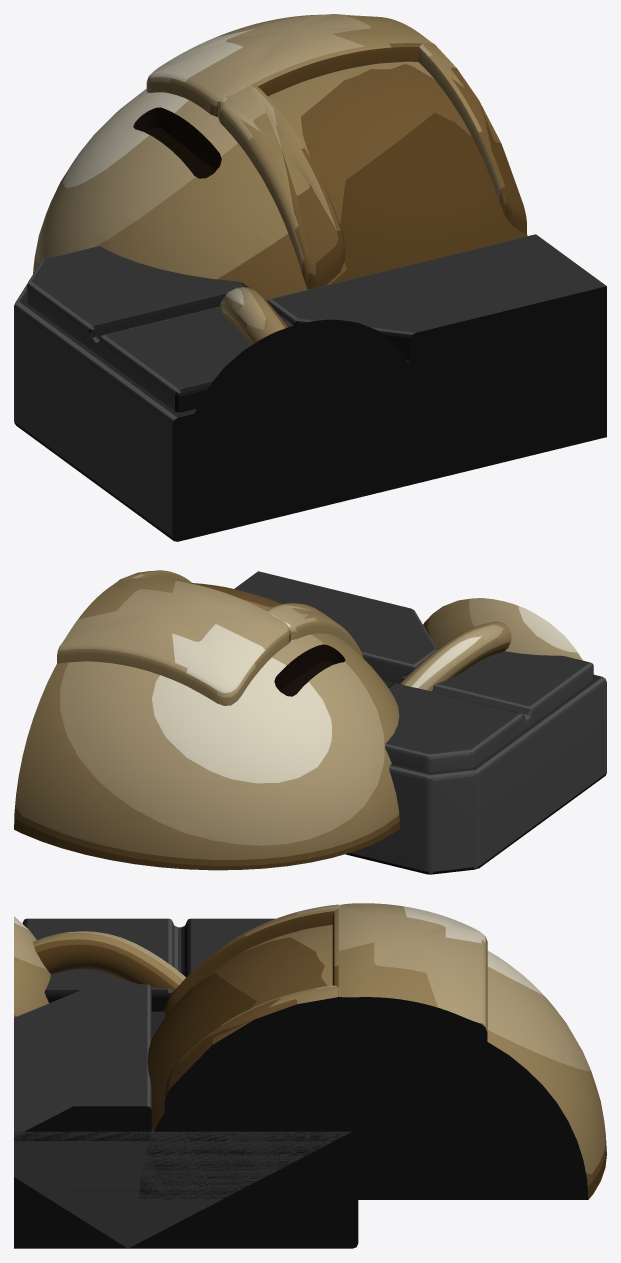
File: gold_domes_tl.glb
The picture shows the model from 3 angles, top to bottom: view 1: azimuth 30°, elevation 25°; view 2: azimuth 150°, elevation 25°; view 3: azimuth 270°, elevation 25°; orthographic projection. The views are drawn at different scales.
Parts seen in each view (by area): view 1: gold_domes_tl; view 2: gold_domes_tl; view 3: gold_domes_tl.
Boxes of the visible parts, x1,y1,x2,y2 form: gold_domes_tl: (14, 14, 606, 541); gold_domes_tl: (14, 570, 606, 874); gold_domes_tl: (14, 903, 606, 1248).
Size of the model in its own units: 22 by 13.74 by 27.55.
